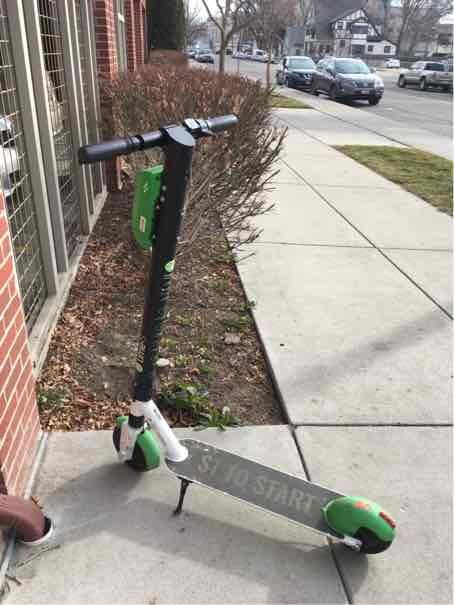scooter: (77, 109, 402, 561)
